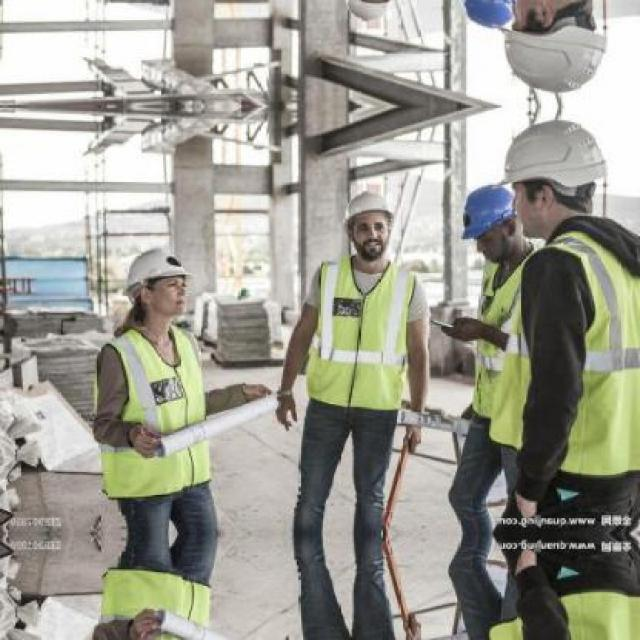Reflective-Jacket: (470, 230, 638, 486), (84, 324, 228, 503), (290, 254, 428, 421), (457, 247, 545, 447)
Safety-Helmet: (488, 116, 617, 202), (112, 239, 200, 302), (448, 180, 526, 248), (332, 179, 402, 231)
